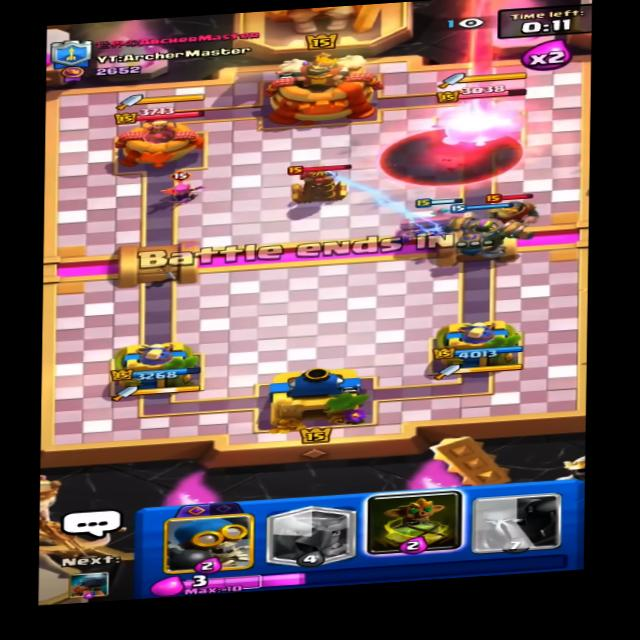Evoarchers: (158, 171, 205, 207)
Knight: (483, 191, 545, 228)
Tesla: (277, 159, 353, 211)
